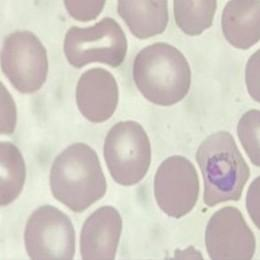Infected: (195, 131, 251, 207)
Uninfected: (49, 142, 106, 211), (134, 43, 190, 105), (63, 16, 127, 69), (103, 121, 152, 185), (2, 31, 48, 94), (25, 204, 75, 260), (154, 156, 199, 217), (205, 207, 255, 260), (74, 66, 118, 122), (79, 205, 122, 259), (118, 0, 169, 39), (222, 0, 260, 50), (173, 0, 215, 36)
